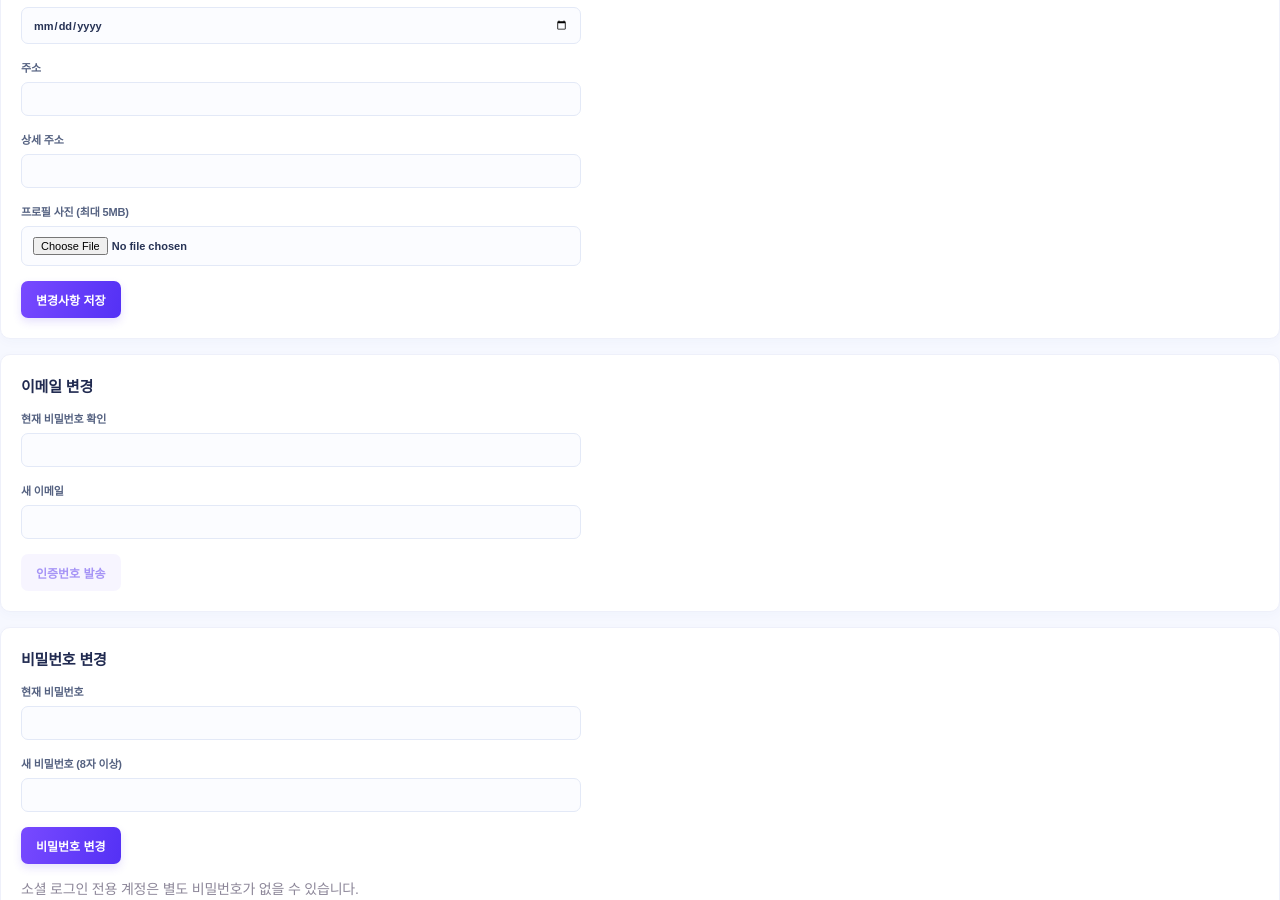
Test: changing the recipient clears the previous verification challenge
The image size is (1280, 900).
(page scrolled)
Check: the heading "이메일 변경" is shown, box x1=21 y1=378 x2=93 y2=395
Type "Password123" into the password field labelled "현재 비밀번호 확인" at (301, 450), box x1=21 y1=433 x2=581 y2=467
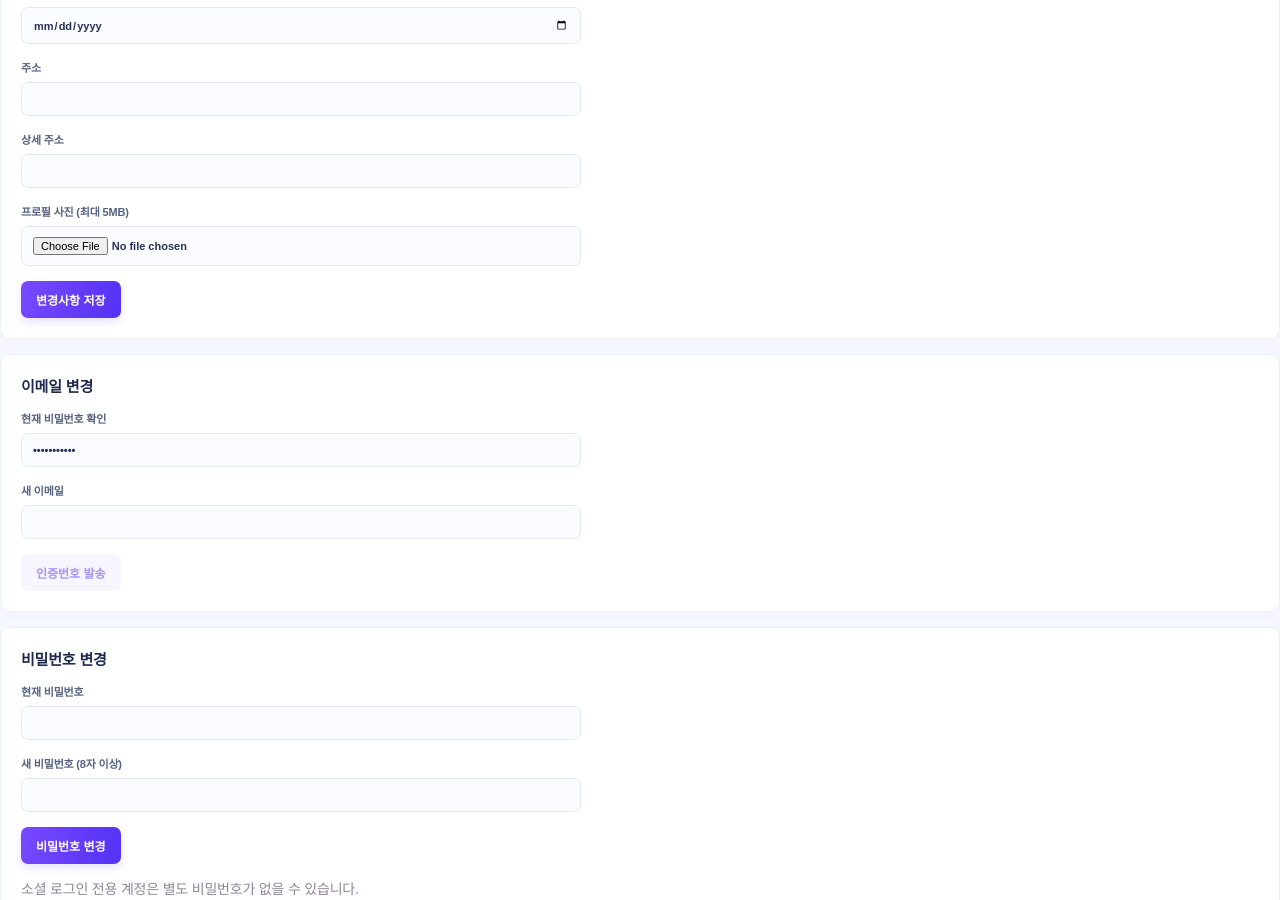
Type "new@example.test" into the field labelled "새 이메일" at (301, 522), box x1=21 y1=505 x2=581 y2=539
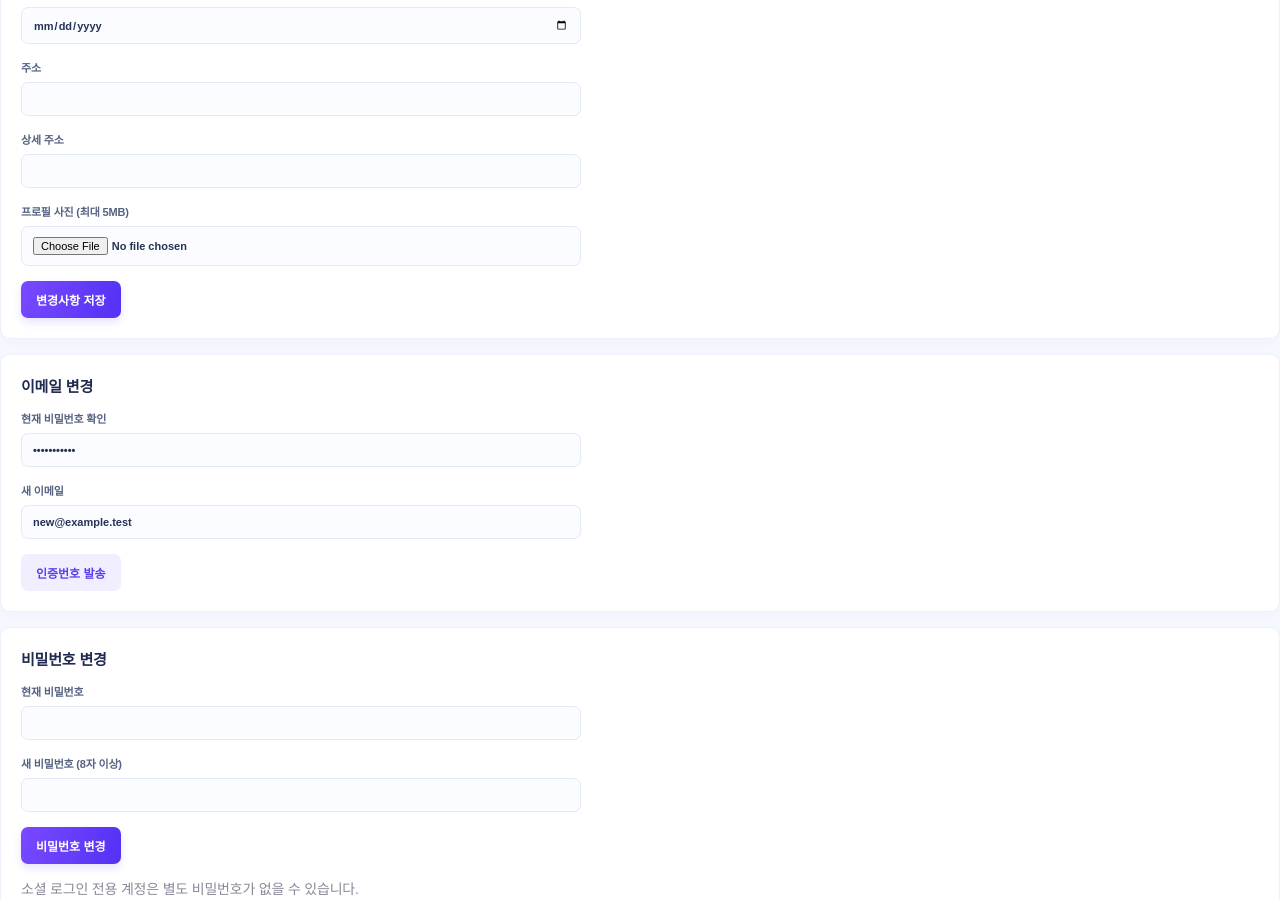
Click the button "인증번호 발송" at (71, 573), box x1=21 y1=554 x2=121 y2=591
(page scrolled)
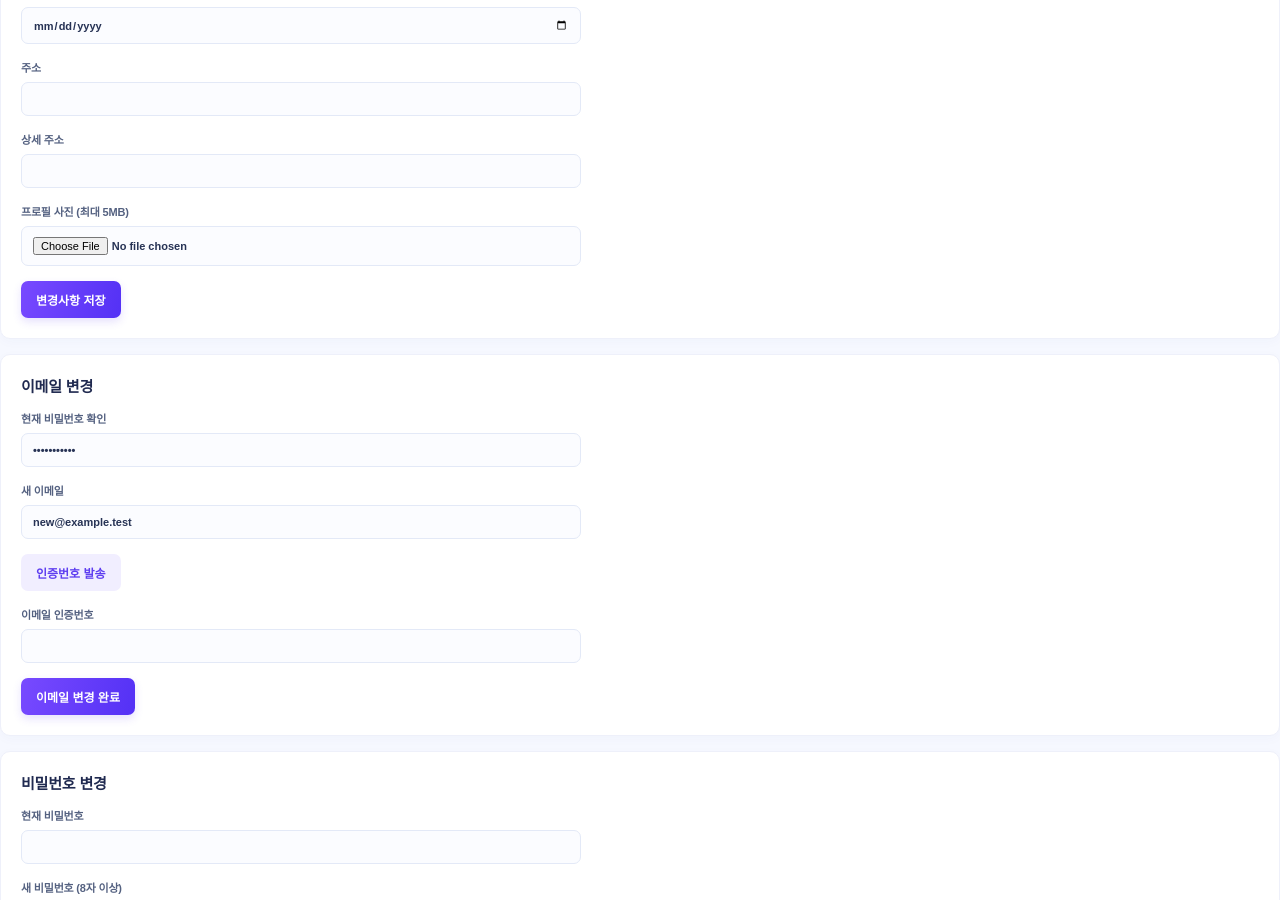
Check: the field labelled "이메일 인증번호" is shown, box x1=21 y1=629 x2=581 y2=663
Replace the text in the field labelled "새 이메일" with "other@example.test" at (301, 522), box x1=21 y1=505 x2=581 y2=539
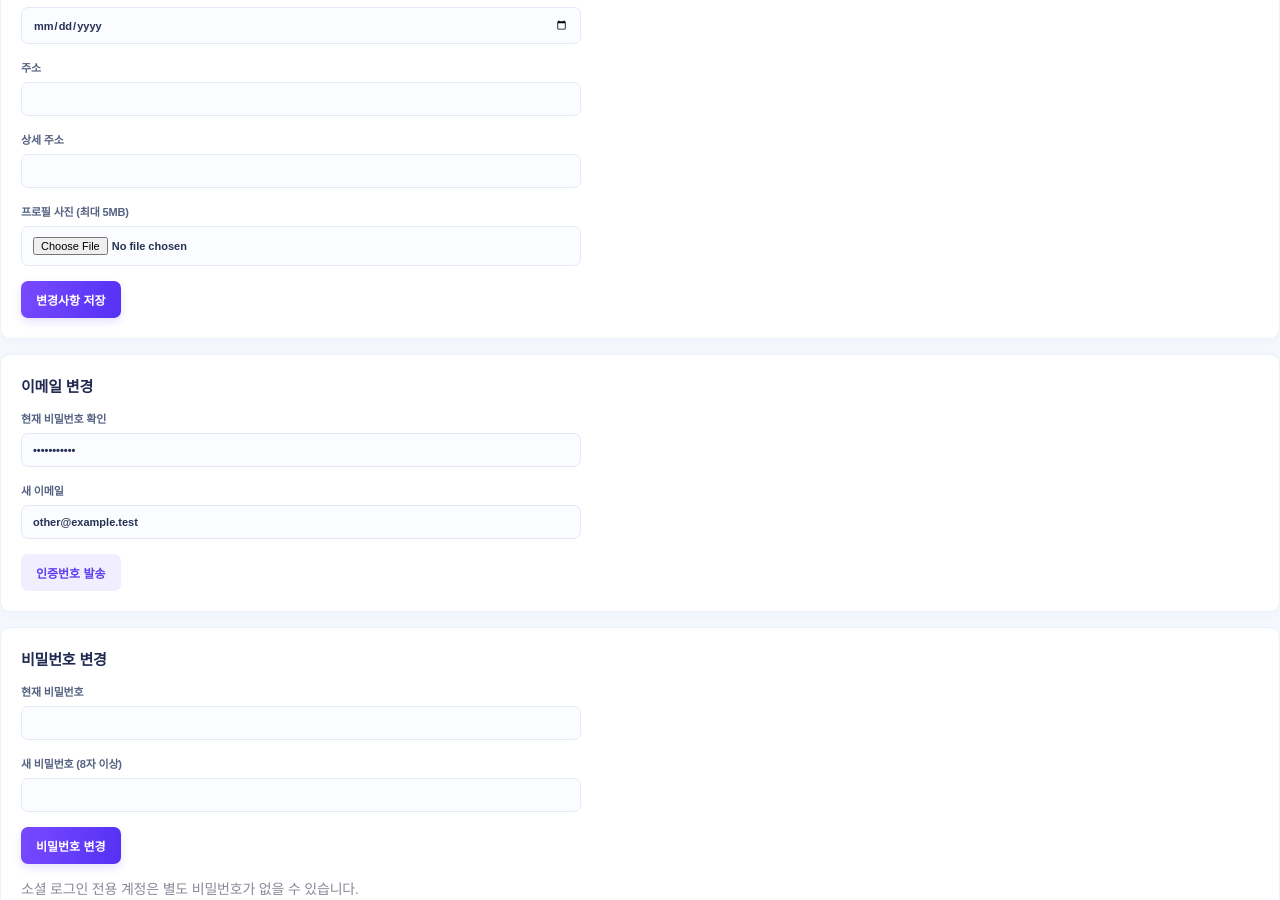
Check: the button "이메일 변경 완료" is gone
